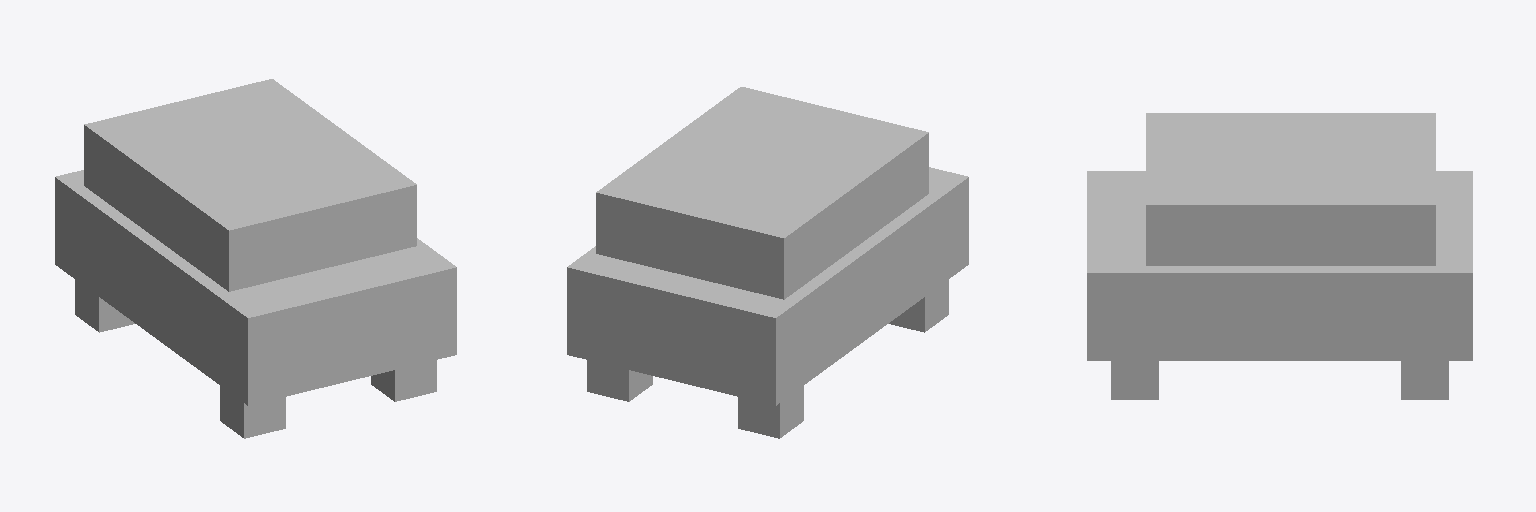
The model's file is carro.obj.
3 views of the same model, side by side, from view 1: azimuth 30°, elevation 25°; view 2: azimuth 150°, elevation 25°; view 3: azimuth 270°, elevation 25° (orthographic).
Visible parts, largest first — view 1: wheelFront2; view 2: wheelFront2; view 3: wheelFront2.
Part boxes in pixels (bbox=[...]): wheelFront2: bbox=[55, 79, 456, 438]; wheelFront2: bbox=[567, 87, 968, 438]; wheelFront2: bbox=[1087, 113, 1472, 399].
Size of the model in its own units: 5 by 4.45 by 8.